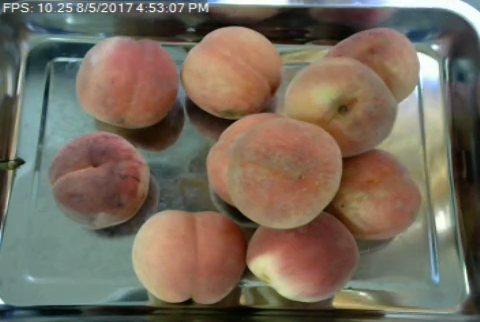Peach: (228, 117, 341, 227), (281, 57, 396, 157), (133, 208, 248, 305), (244, 214, 360, 302), (48, 130, 153, 227), (180, 24, 285, 118), (78, 36, 181, 127), (327, 146, 419, 238), (321, 24, 420, 104)
